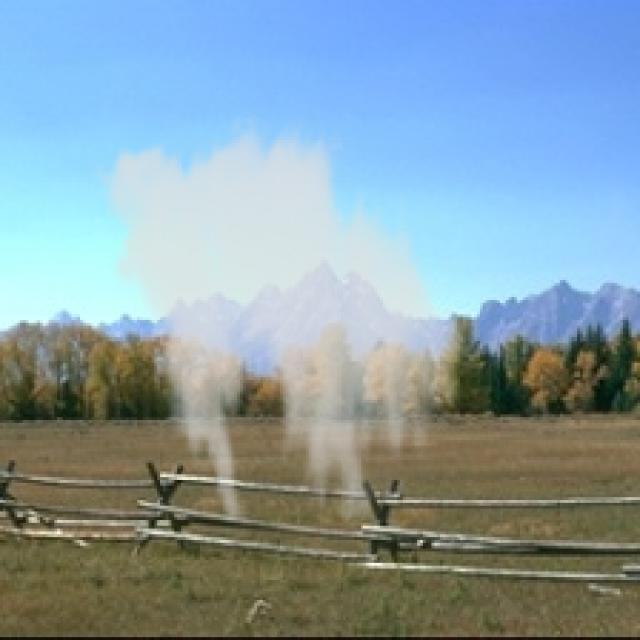Smoke: (86, 111, 477, 520)
